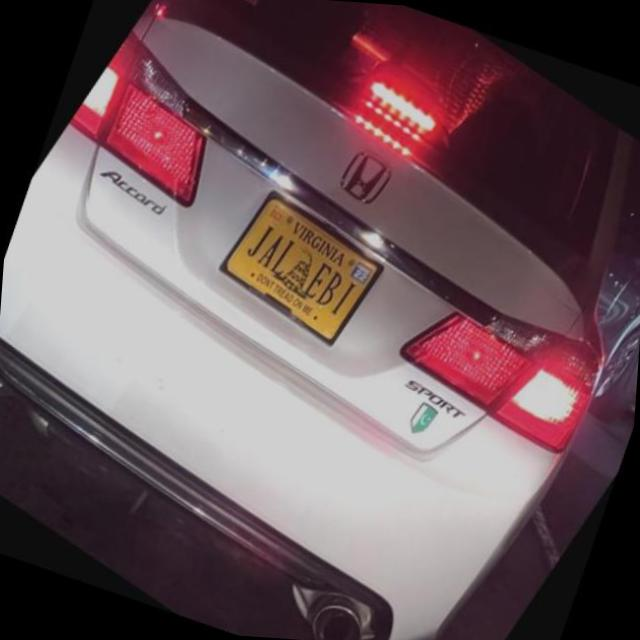LicensePlate: (215, 186, 384, 345)
